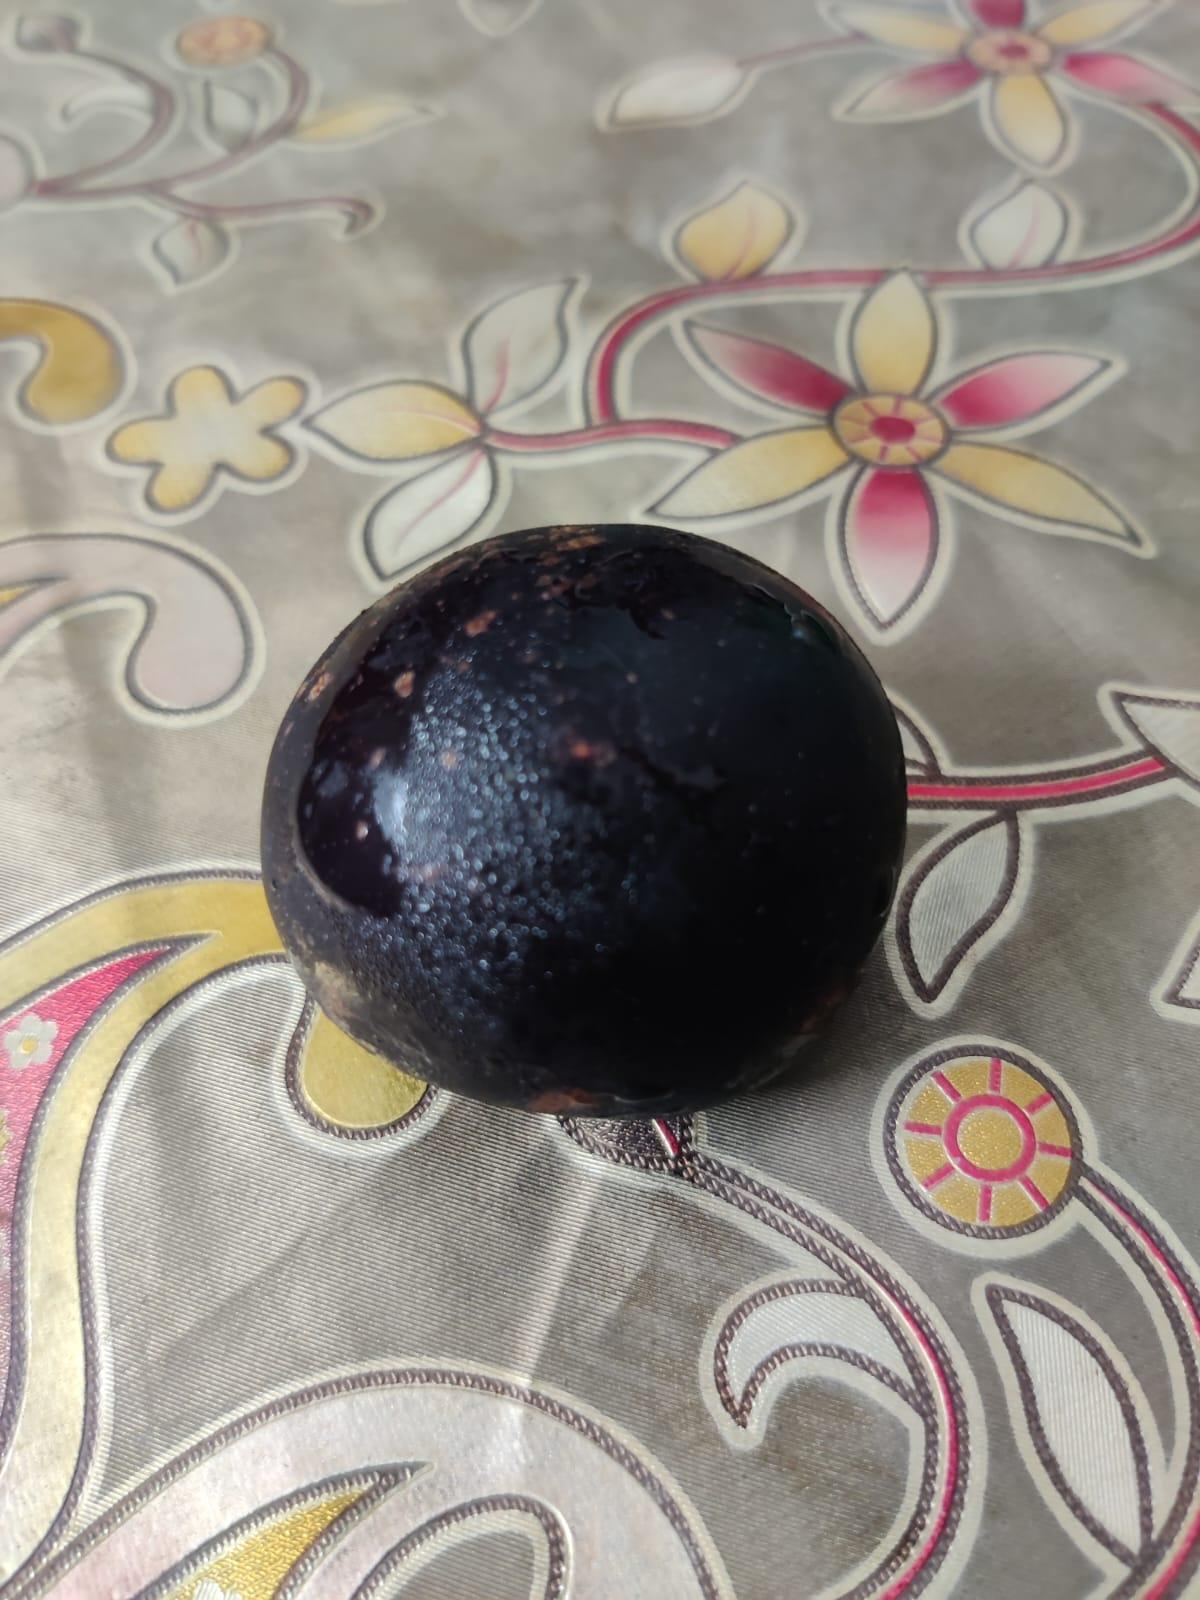non-mango: (260, 511, 920, 1134)
